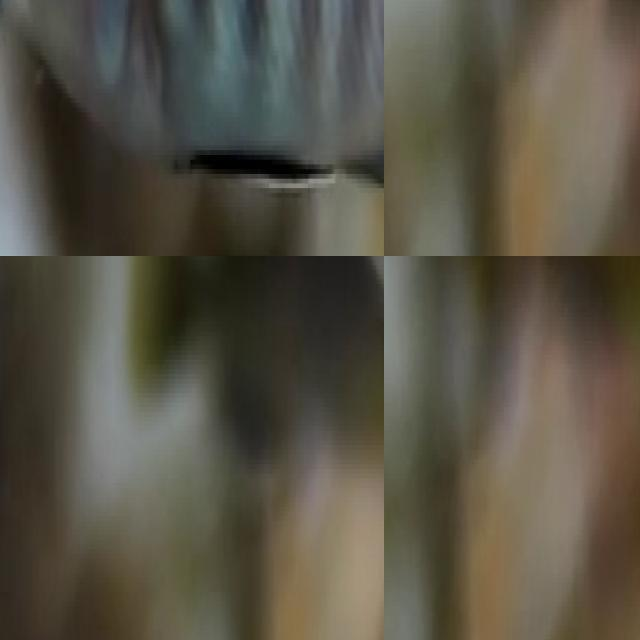fish: (0, 0, 384, 256), (317, 256, 384, 535)
